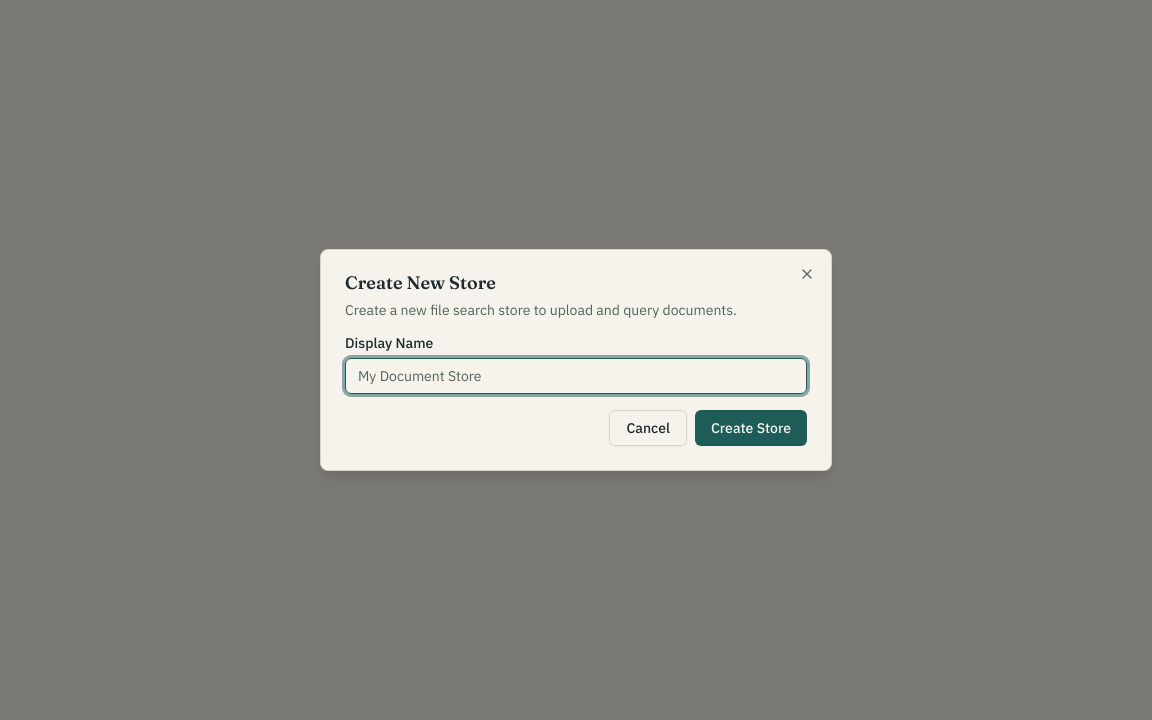
Test: CreateStoreModal › requires a display name
Click the button "Create Store": click(751, 428) [695,410,807,446]
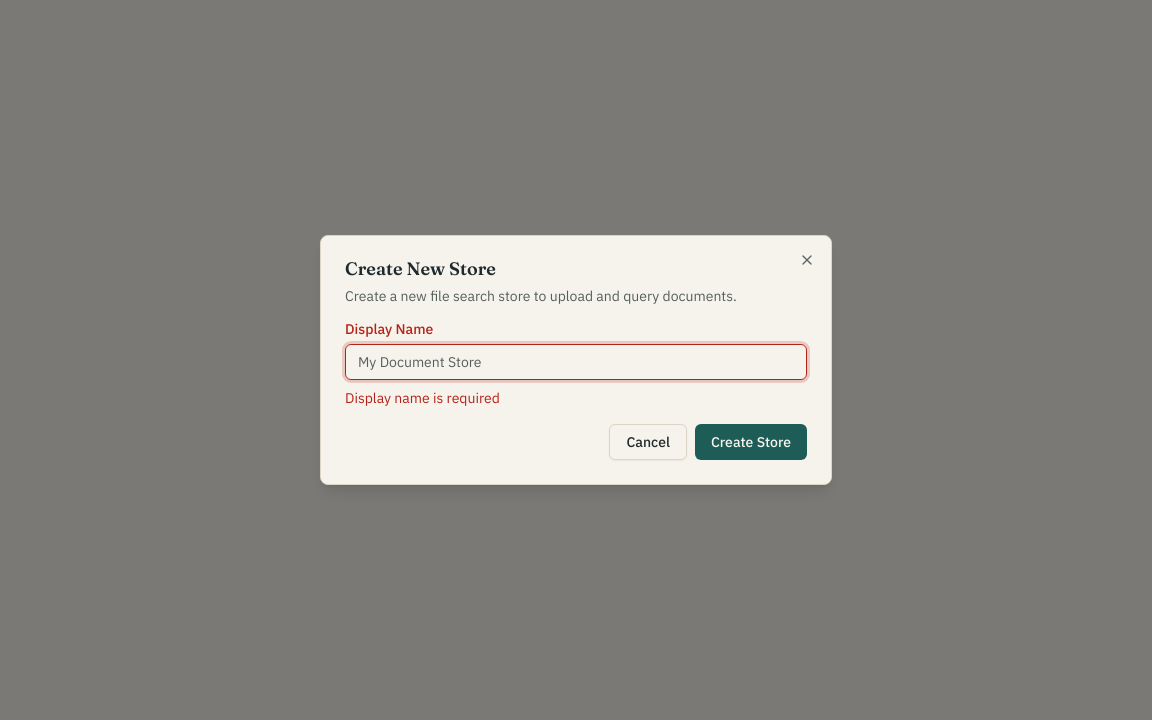
Expected: the text "Display name is required" is shown, [345,389,500,407]
